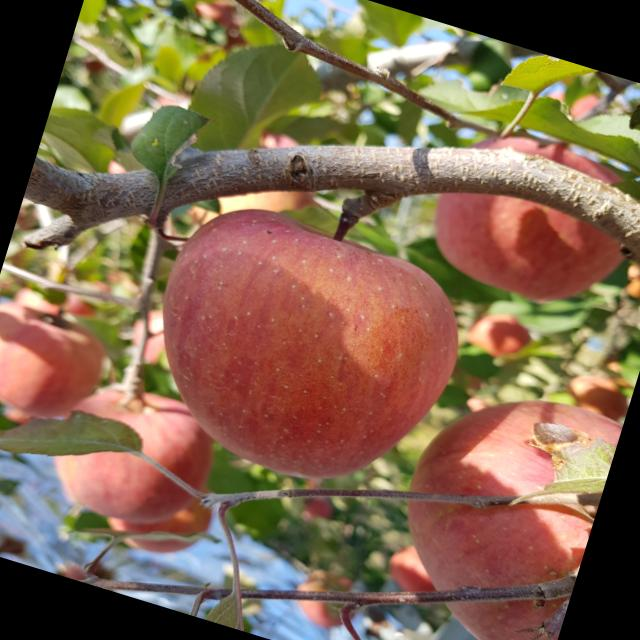fresh: (115, 181, 493, 519)
